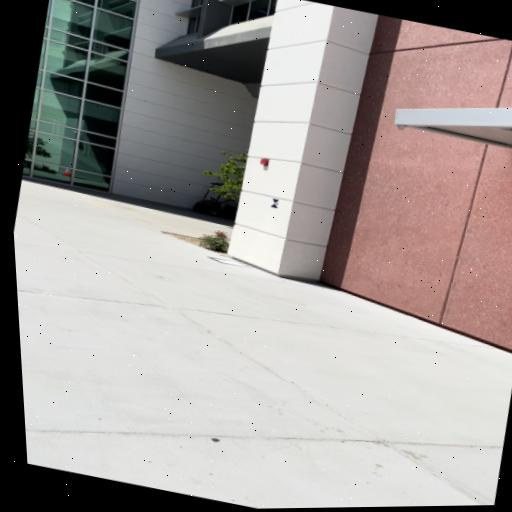target6: (270, 198, 279, 208)
